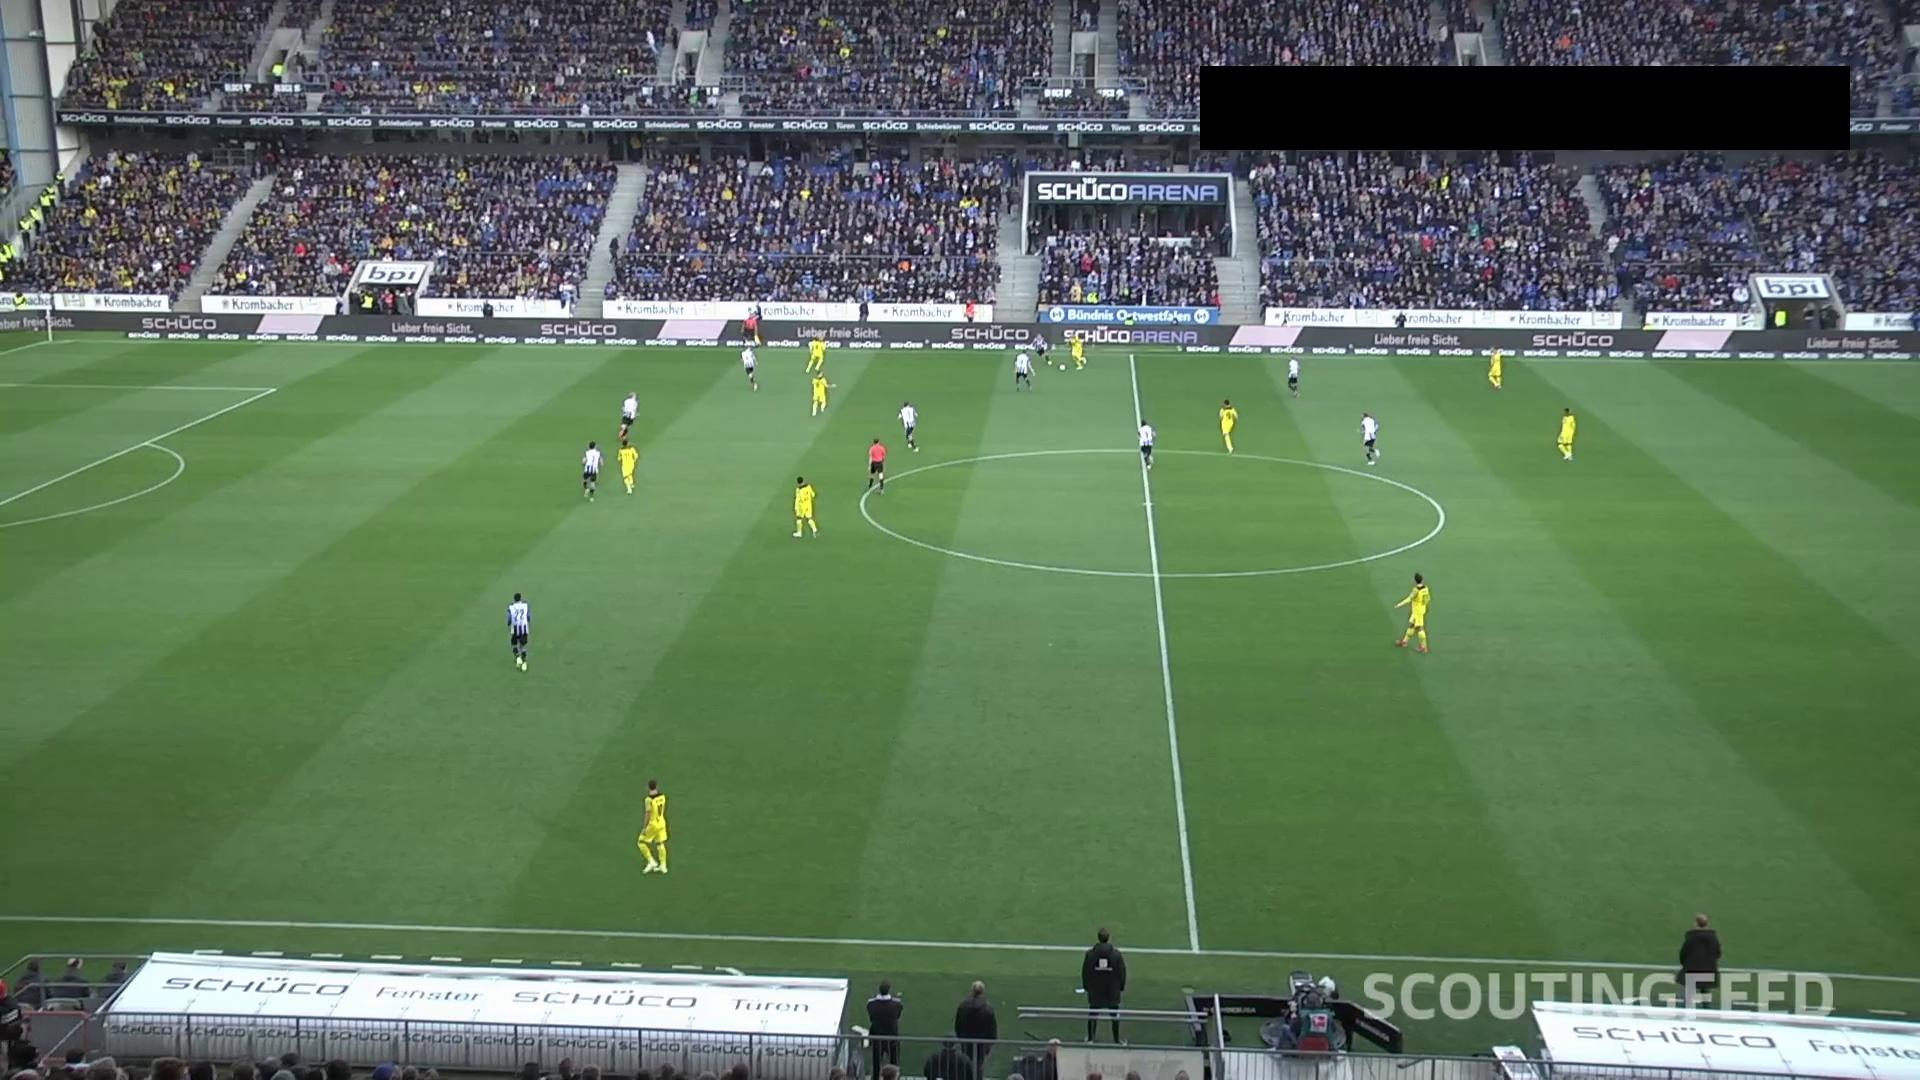Location-of-ball: (1054, 360, 1068, 372)
